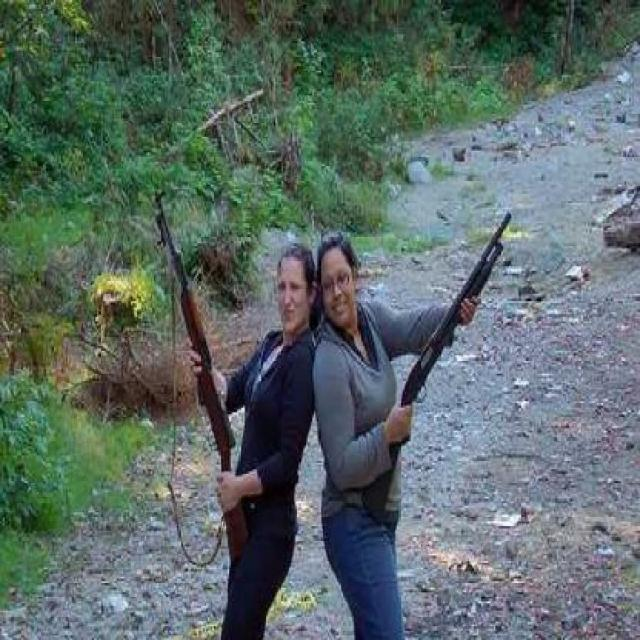weapon: (357, 210, 515, 518), (168, 252, 255, 546)
